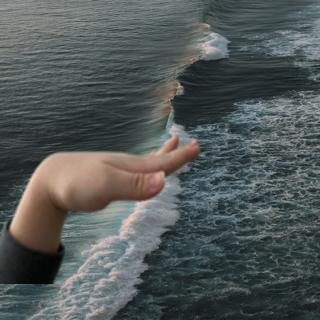Wait: (12, 128, 199, 220)
